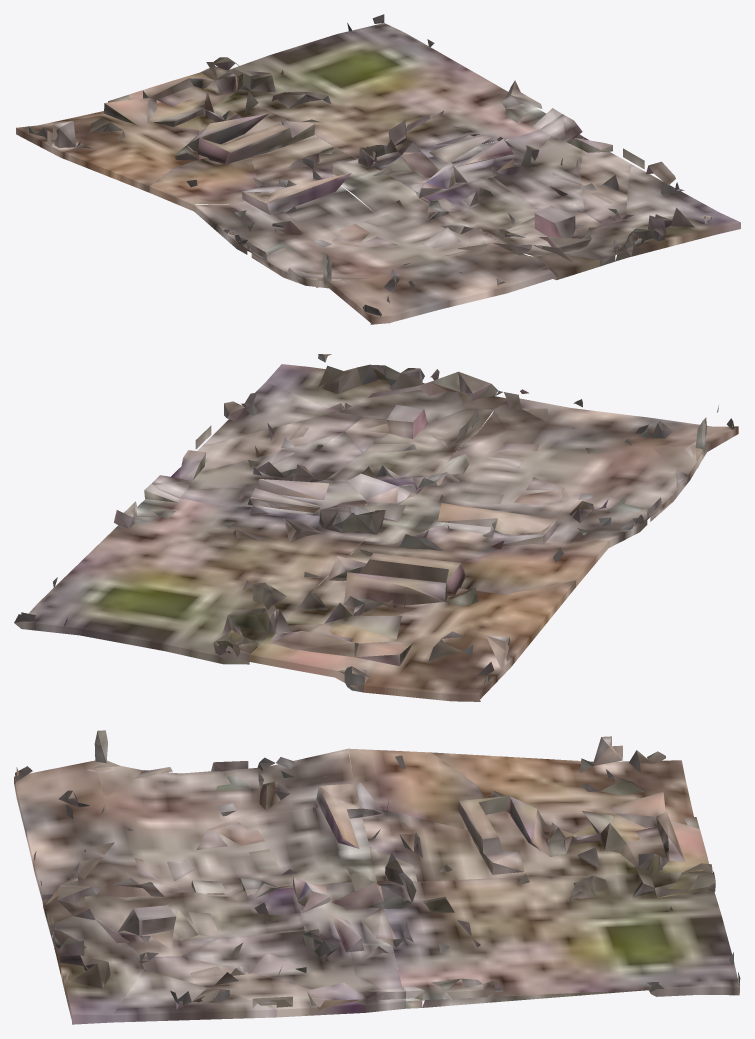
3 views of the same model, one above another, from view 1: azimuth 30°, elevation 25°; view 2: azimuth 150°, elevation 25°; view 3: azimuth 270°, elevation 25° (orthographic). The views are drawn at different scales.
Parts seen in each view (by area): view 1: Mesh_0; view 2: Mesh_0; view 3: Mesh_0.
Boxes of the visible parts, left/top/right/bottom form: Mesh_0: left=16, top=14, right=740, bottom=324; Mesh_0: left=14, top=354, right=738, bottom=701; Mesh_0: left=14, top=730, right=740, bottom=1024.
Size of the model in its own units: 534 by 77.65 by 660.
1 material, 1 textured.
